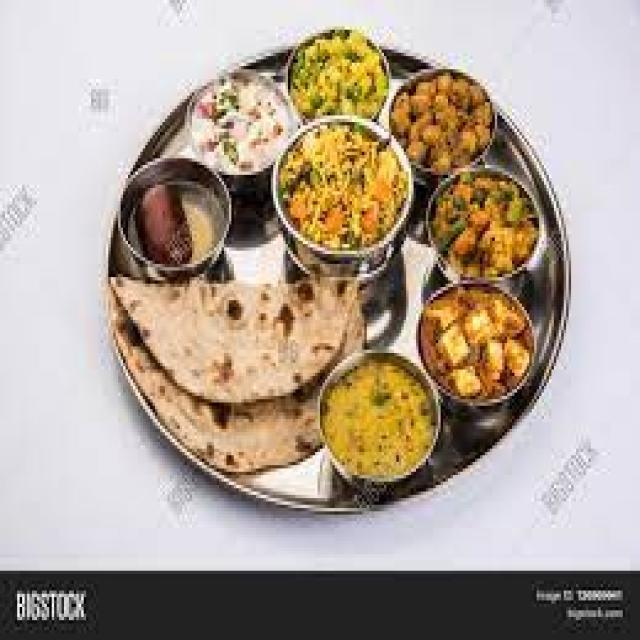dal: (312, 342, 438, 490)
raita: (195, 64, 287, 176)
rice: (273, 116, 416, 266)
roti: (130, 268, 359, 414)
sweet: (122, 160, 231, 284)
veg: (413, 272, 539, 405)
veg-fry: (418, 140, 551, 286)
